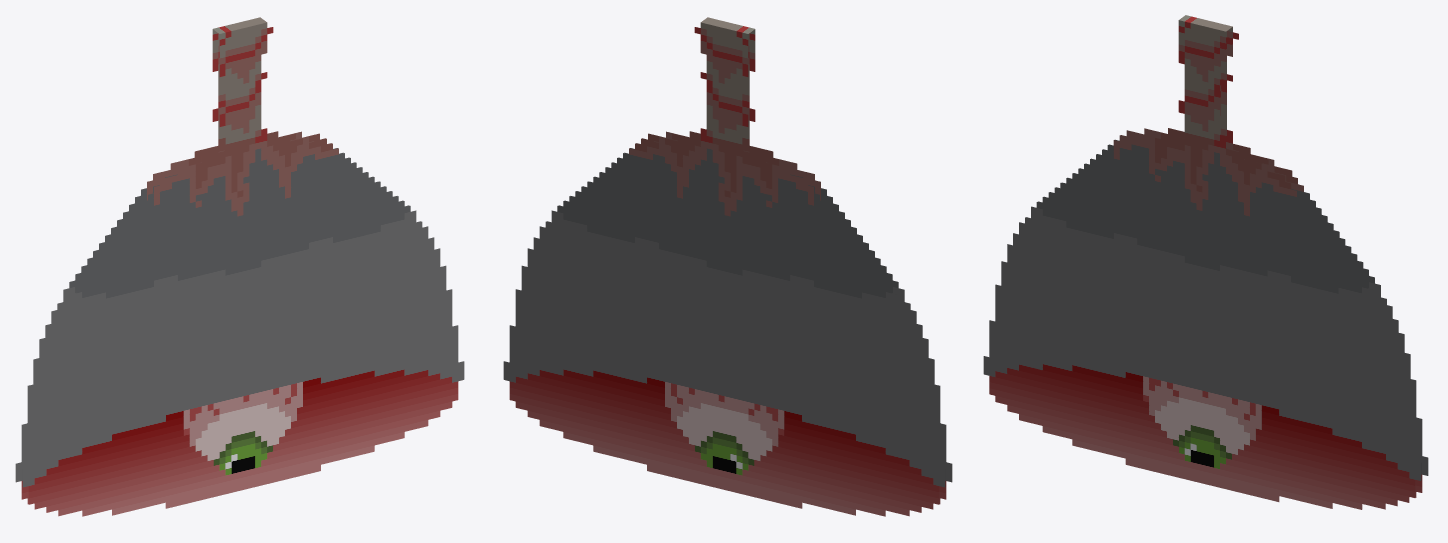
The model's file is avize_pixel.fbx.
3 views of the same model, side by side, from view 1: azimuth 30°, elevation 25°; view 2: azimuth 150°, elevation 25°; view 3: azimuth 330°, elevation 25° (orthographic).
Parts seen in each view (by area): view 1: avize_pixel; view 2: avize_pixel; view 3: avize_pixel.
Boxes of the visible parts, left/top/right/bottom form: avize_pixel: left=15, top=17, right=464, bottom=516; avize_pixel: left=503, top=17, right=952, bottom=516; avize_pixel: left=983, top=15, right=1428, bottom=509.
Size of the model in its own units: 413 by 410 by 11.18.
